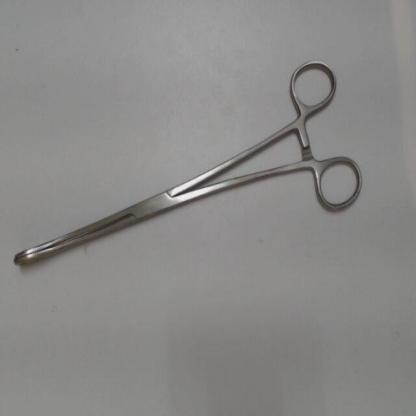Sponge Forceps: (7, 55, 371, 277)
